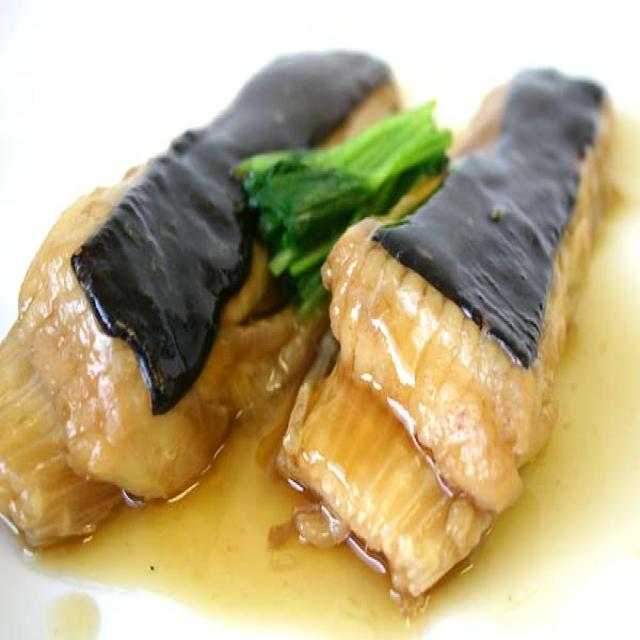熟制海鲜: (0, 0, 619, 629)
